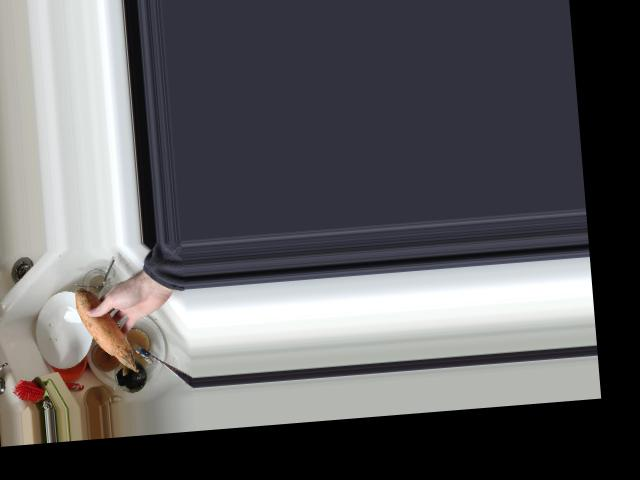sweet_potato: (71, 283, 141, 374)
